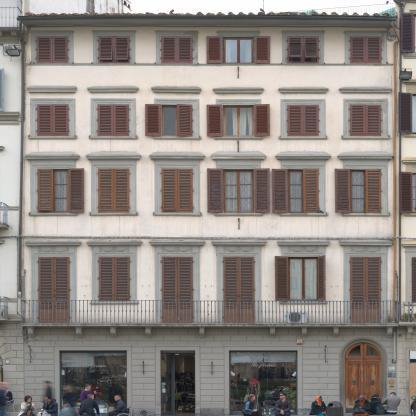Balcony: (20, 301, 399, 327)
Building Outline: (17, 15, 397, 416)
Cornice: (27, 87, 78, 94), (274, 154, 333, 160), (24, 241, 82, 247), (24, 154, 81, 160), (148, 154, 205, 160), (210, 154, 267, 160), (86, 154, 142, 160), (86, 87, 140, 93), (212, 88, 265, 94), (277, 88, 330, 94), (151, 87, 202, 93), (85, 241, 143, 246), (337, 154, 394, 159), (211, 241, 268, 246), (149, 241, 206, 246), (338, 241, 394, 246), (338, 88, 393, 93), (276, 241, 330, 246)
Door: (160, 350, 195, 416), (38, 257, 70, 323), (223, 257, 255, 323), (162, 257, 193, 323), (350, 257, 381, 323), (345, 359, 382, 413)
Facade: (16, 11, 400, 416)
Floor: (24, 230, 400, 330), (24, 149, 400, 230), (23, 78, 400, 149)
Floor Slab: (24, 142, 400, 149), (24, 323, 400, 330), (24, 72, 400, 78), (24, 224, 400, 230)
Ground Floor: (24, 330, 399, 416)
Shop: (230, 351, 298, 415), (60, 351, 127, 414)
Sill: (214, 136, 263, 141), (152, 136, 202, 140), (28, 136, 78, 140), (88, 136, 138, 140), (340, 136, 390, 140)
Top Floor: (23, 16, 400, 78)
Window: (99, 257, 130, 302), (38, 169, 69, 213), (288, 169, 319, 213), (99, 169, 130, 213), (162, 169, 193, 213), (223, 169, 254, 213), (350, 170, 381, 214), (288, 257, 318, 301), (37, 104, 69, 136), (223, 105, 254, 137), (98, 104, 129, 136), (350, 105, 381, 136), (288, 105, 319, 136), (162, 105, 192, 136), (162, 36, 193, 64), (98, 37, 130, 64), (287, 37, 319, 64), (350, 37, 382, 64), (37, 37, 68, 64), (223, 37, 254, 63), (345, 342, 381, 359)
object: (278, 136, 328, 140)
